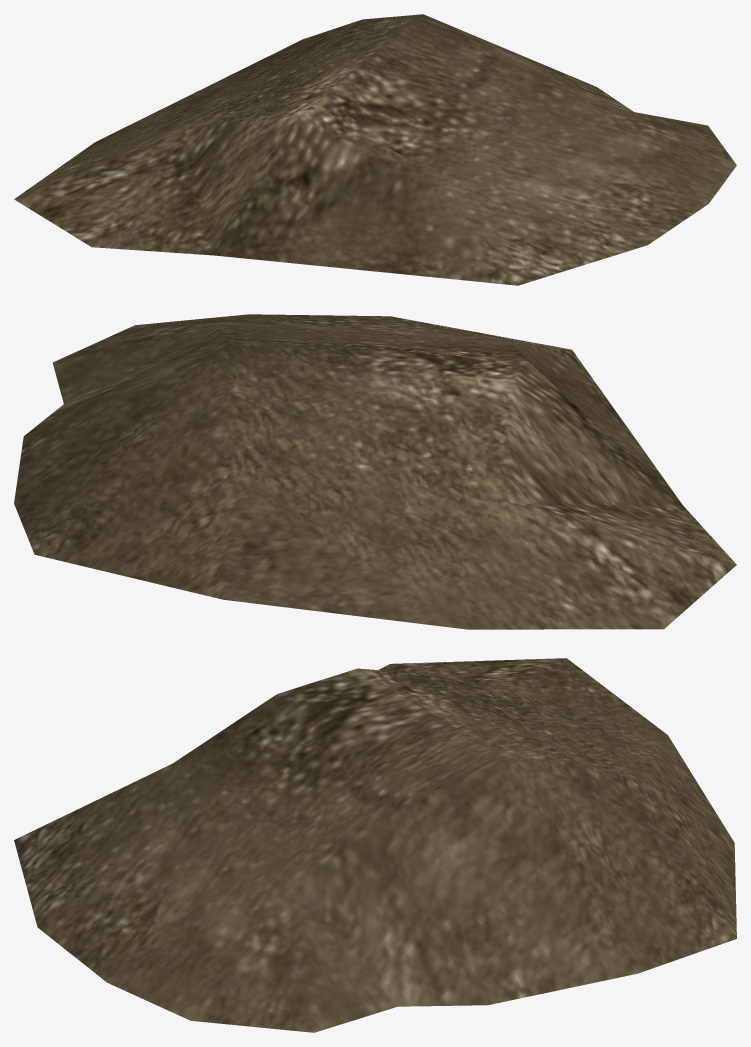
The model's file is dirt_pile_cave_volcano.fbx.
The picture shows the model from 3 angles, top to bottom: view 1: azimuth 30°, elevation 25°; view 2: azimuth 150°, elevation 25°; view 3: azimuth 270°, elevation 25°; orthographic projection. The views are drawn at different scales.
Visible parts, largest first — view 1: dirt_pile_cave_volcano; view 2: dirt_pile_cave_volcano; view 3: dirt_pile_cave_volcano.
Boxes of the visible parts, left/top/right/bottom form: dirt_pile_cave_volcano: left=14, top=14, right=736, bottom=285; dirt_pile_cave_volcano: left=14, top=314, right=736, bottom=629; dirt_pile_cave_volcano: left=14, top=658, right=736, bottom=1032.
Size of the model in its own units: 1713 by 300 by 1397.
Materials: 1 (1 with a texture image).
